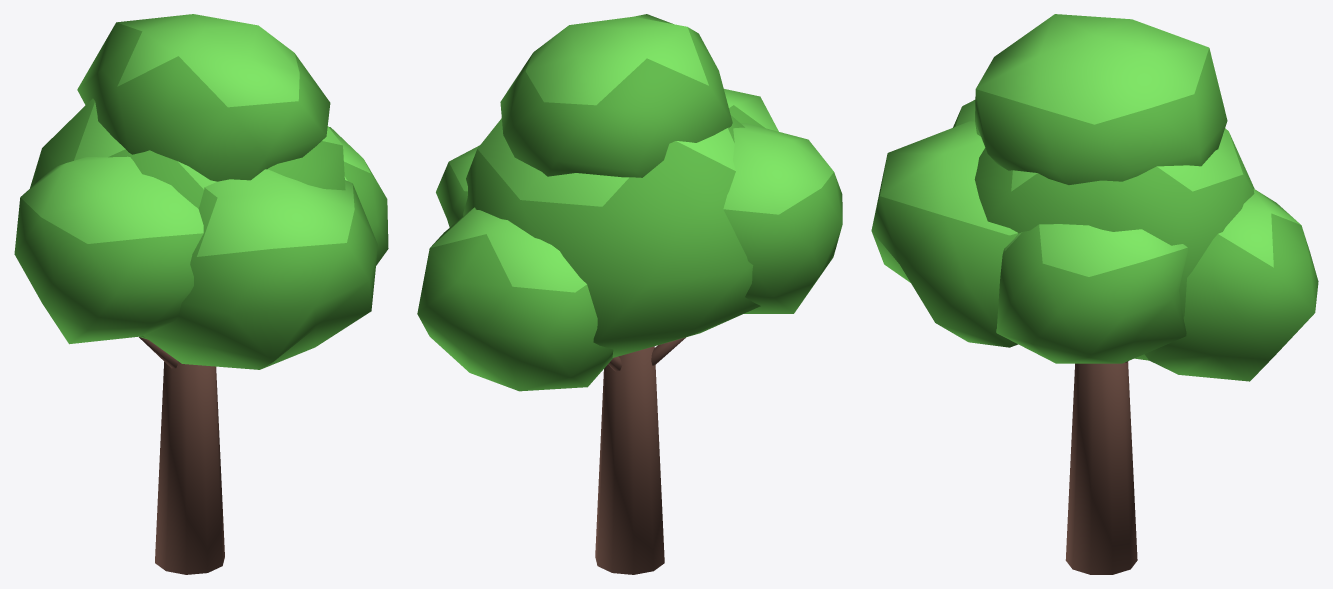
Rendered from TreeRound.glb.
3 renders of one model, left to right at view 1: azimuth 30°, elevation 25°; view 2: azimuth 150°, elevation 25°; view 3: azimuth 270°, elevation 25°, orthographic.
Parts seen in each view (by area): view 1: TreeRound; view 2: TreeRound; view 3: TreeRound.
Part boxes in pixels (x1,y1,x2,y2): TreeRound: (14, 14, 388, 574); TreeRound: (417, 14, 842, 574); TreeRound: (871, 14, 1318, 574).
Bounding box in the file's own units: 5.88 × 8.16 × 6.23.
